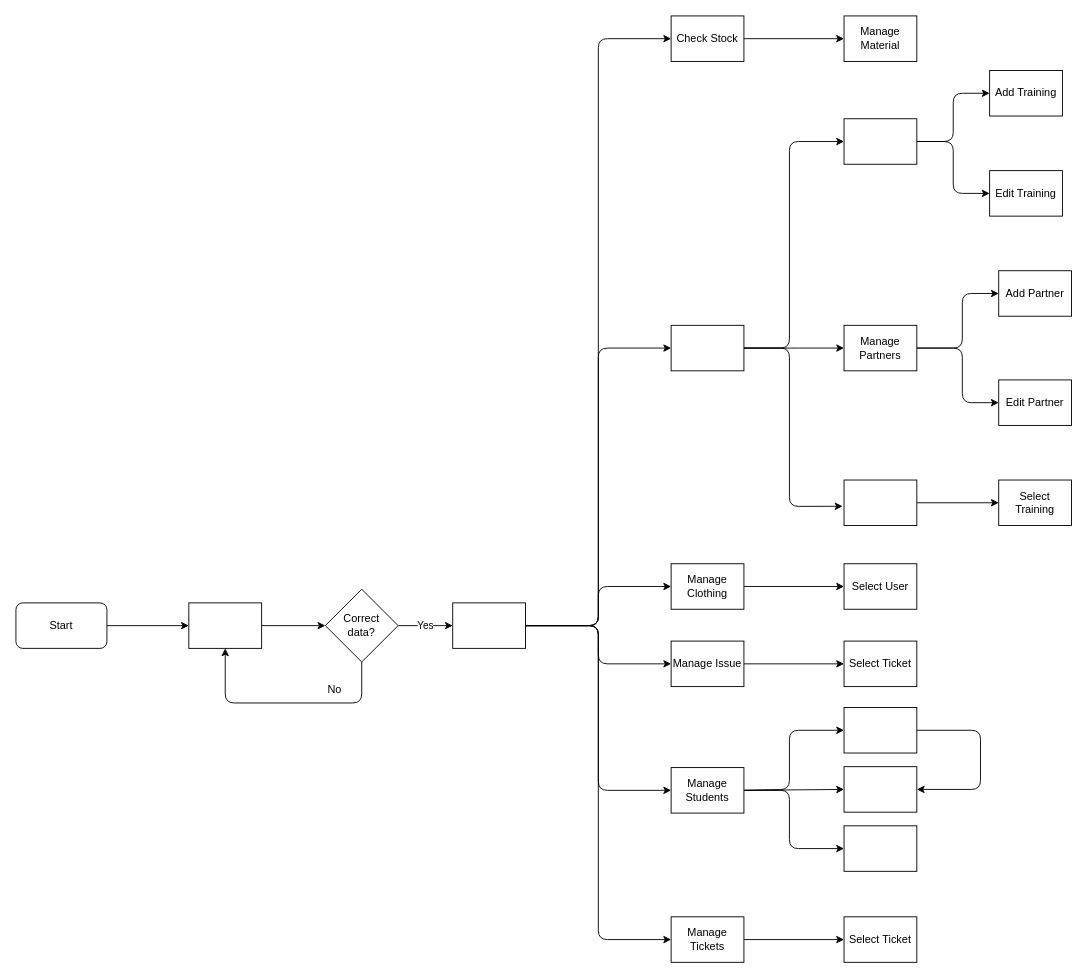
Image size: 1087x978. Some labels were removed from this diagram. The shapes that lost their labels are listed below. From the top down, each one's centre as x and y in pixels, then its label:
At point (880, 141): "Manage Trainings".
At point (707, 347): "Manage External Trainings".
At point (880, 502): "Assign Materials".
At point (225, 625): "Login".
At point (489, 625): "Show Menu".
At point (880, 730): "Add CouserClass".
At point (880, 789): "Add Student".
At point (880, 848): "Edit Student".
